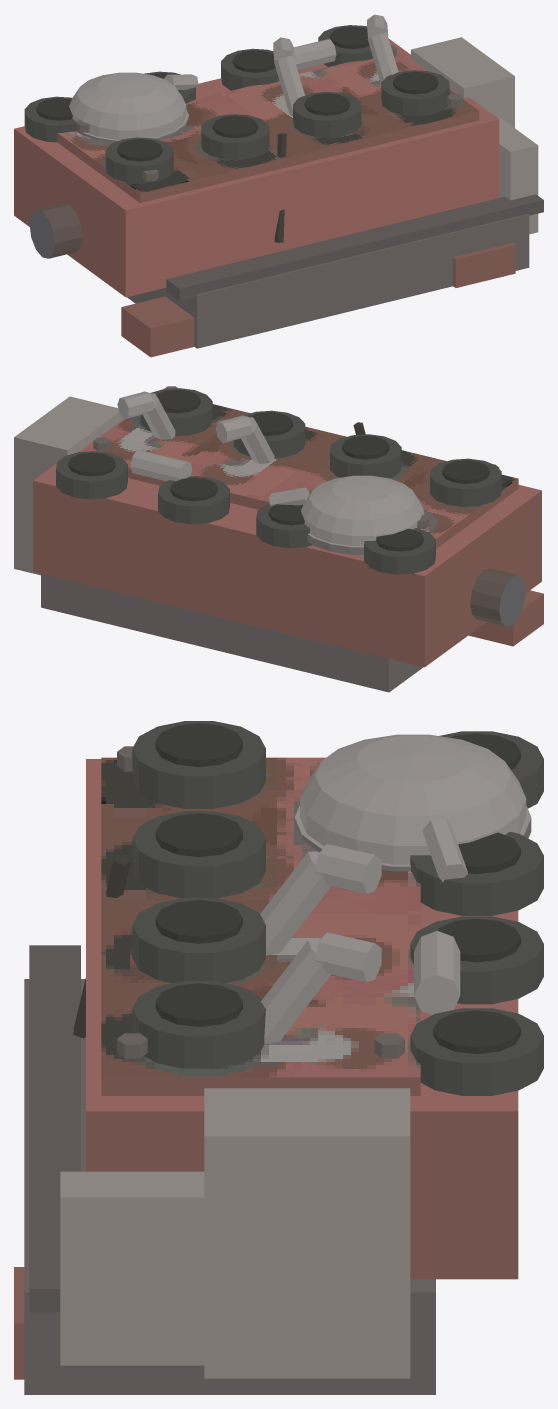
The model's file is Building_AncientLargeRustedEngineBlock.glb.
The picture shows the model from 3 angles, top to bottom: view 1: azimuth 30°, elevation 25°; view 2: azimuth 150°, elevation 25°; view 3: azimuth 270°, elevation 25°; orthographic projection. The views are drawn at different scales.
Visible parts, largest first — view 1: AncientLargeRustedEngineBlock; view 2: AncientLargeRustedEngineBlock; view 3: AncientLargeRustedEngineBlock.
Part boxes in pixels (x1,y1,x2,y2): AncientLargeRustedEngineBlock: [14, 14, 543, 357]; AncientLargeRustedEngineBlock: [14, 386, 543, 692]; AncientLargeRustedEngineBlock: [14, 721, 543, 1394].
Size of the model in its own units: 1.94 by 0.839 by 1.03.
Materials: 1 (1 with a texture image).
